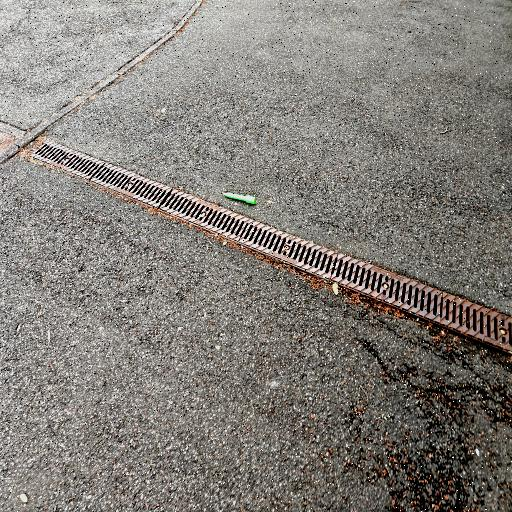Probe-Detection: (224, 193, 255, 204)
